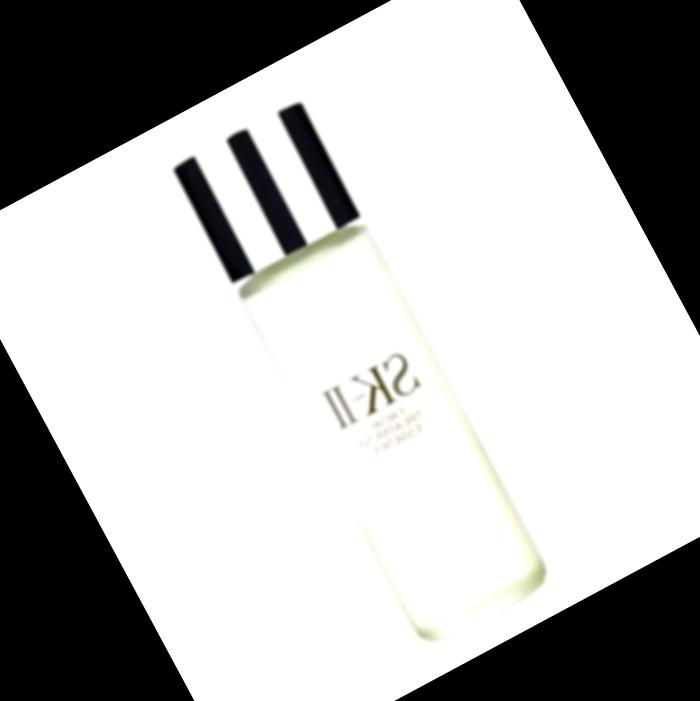cosmetic: (163, 100, 561, 656)
